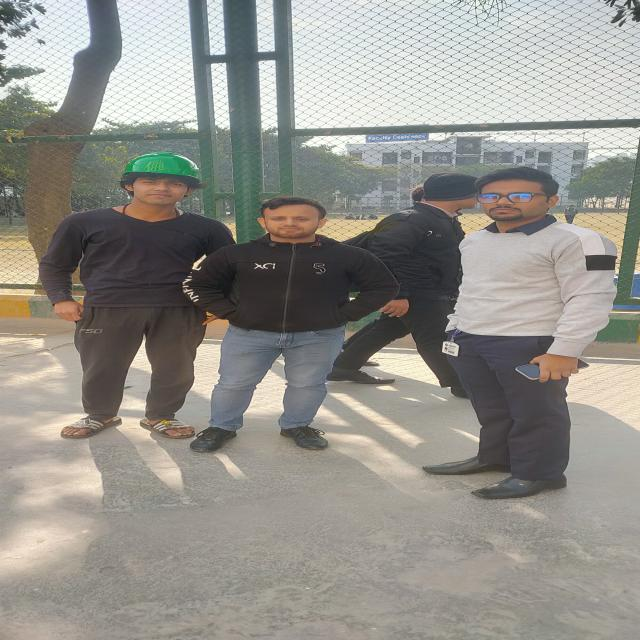no jacket: (41, 153, 232, 439)
unsafe: (421, 168, 617, 499), (184, 196, 400, 454), (375, 172, 480, 398)
